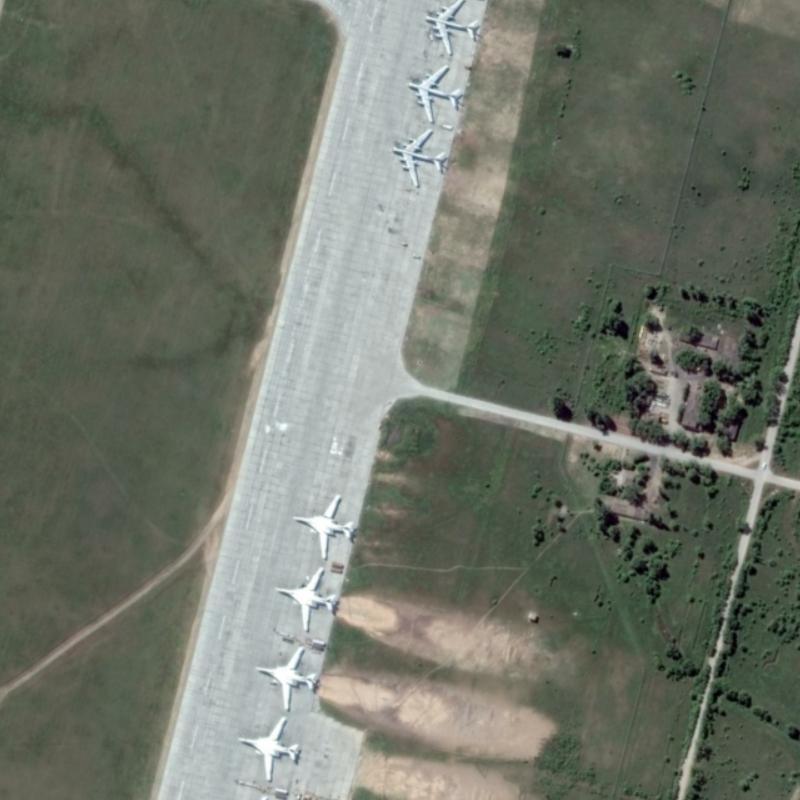A17: (388, 125, 448, 191), (404, 62, 467, 124), (420, 1, 484, 57)
A6: (288, 490, 360, 561), (233, 711, 305, 782), (270, 563, 341, 634), (249, 642, 321, 711)
